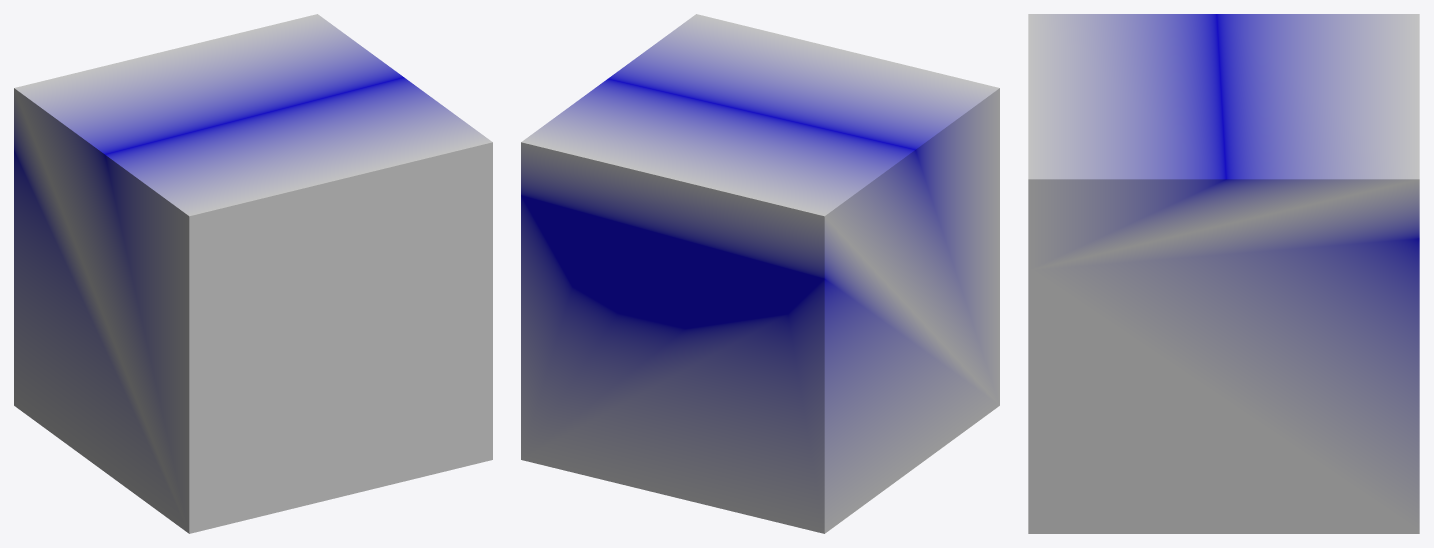
3 views of the same model, side by side, from view 1: azimuth 30°, elevation 25°; view 2: azimuth 150°, elevation 25°; view 3: azimuth 270°, elevation 25° (orthographic). The views are drawn at different scales.
Parts seen in each view (by area): view 1: Cube; view 2: Cube; view 3: Cube.
Part boxes in pixels (<box>): Cube: <box>14,14,492,533</box>; Cube: <box>521,14,999,533</box>; Cube: <box>1028,14,1419,533</box>.
Bounding box in the file's own units: 400 × 400 × 400.
